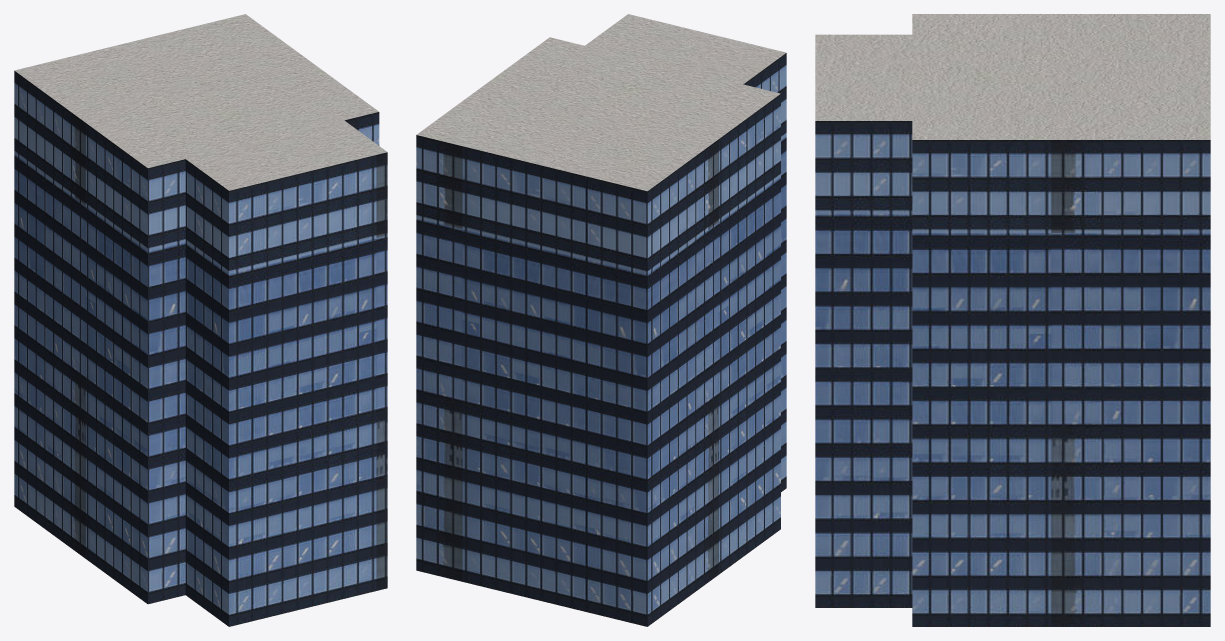
The model's file is building_022.fbx.
3 views of the same model, side by side, from view 1: azimuth 30°, elevation 25°; view 2: azimuth 150°, elevation 25°; view 3: azimuth 270°, elevation 25° (orthographic). The views are drawn at different scales.
Parts seen in each view (by area): view 1: building_022; view 2: building_022; view 3: building_022.
Boxes of the visible parts, box(x1,y1,x2,y2) form: building_022: box(14, 14, 387, 626); building_022: box(416, 14, 786, 626); building_022: box(815, 14, 1210, 626).
Bounding box in the file's own units: 1000 × 1800 × 1325.
